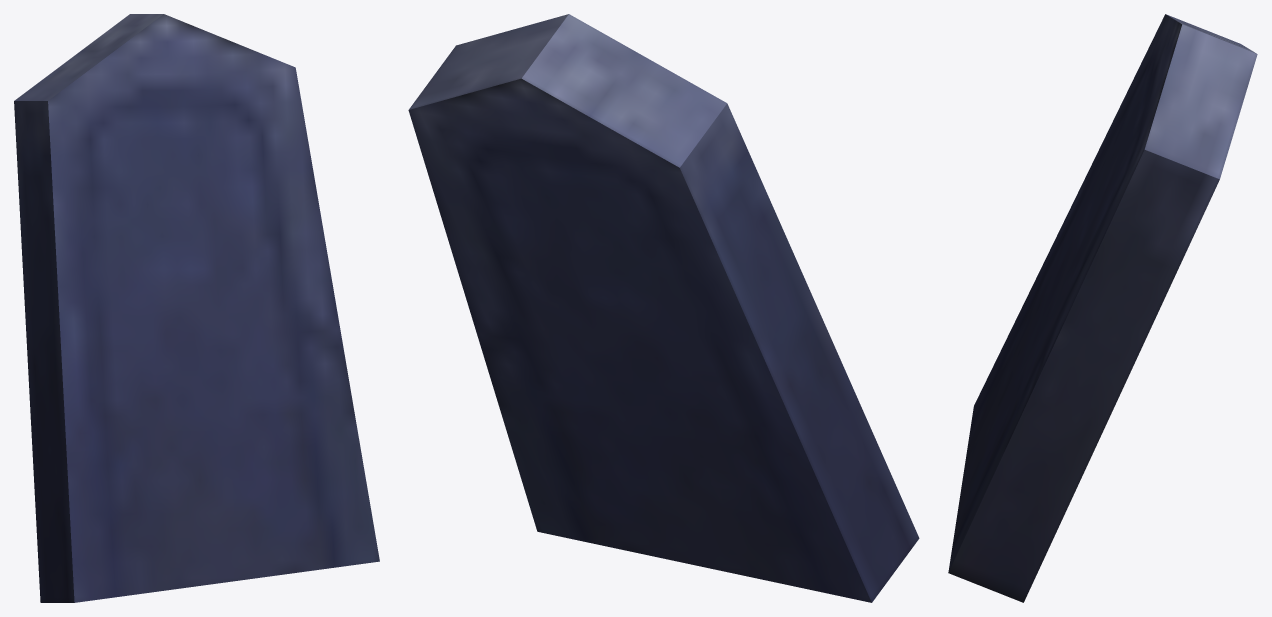
Rendered from Area12_24.fbx.
3 renders of one model, left to right at view 1: azimuth 30°, elevation 25°; view 2: azimuth 150°, elevation 25°; view 3: azimuth 270°, elevation 25°, orthographic. The views are drawn at different scales.
Parts seen in each view (by area): view 1: Area12_24; view 2: Area12_24; view 3: Area12_24.
Boxes of the visible parts, left/top/right/bottom form: Area12_24: left=14, top=14, right=379, bottom=602; Area12_24: left=408, top=14, right=919, bottom=602; Area12_24: left=948, top=14, right=1257, bottom=602.
Size of the model in its own units: 176 by 282 by 150.
